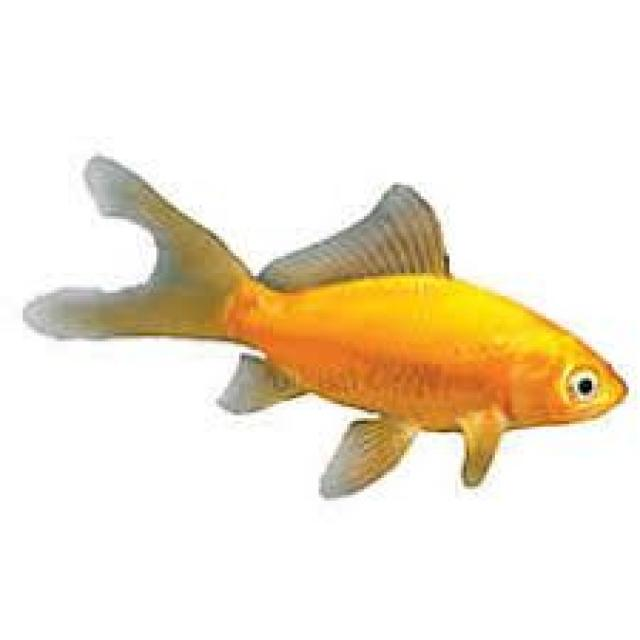Gold-Fish: (6, 117, 612, 541)
